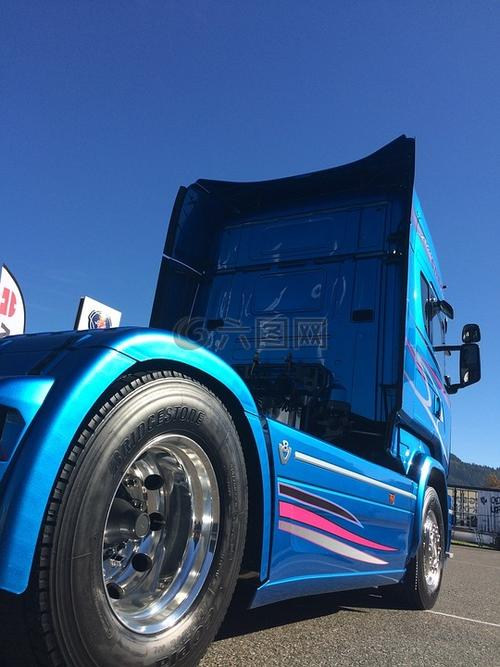卡车: (5, 122, 458, 653)
